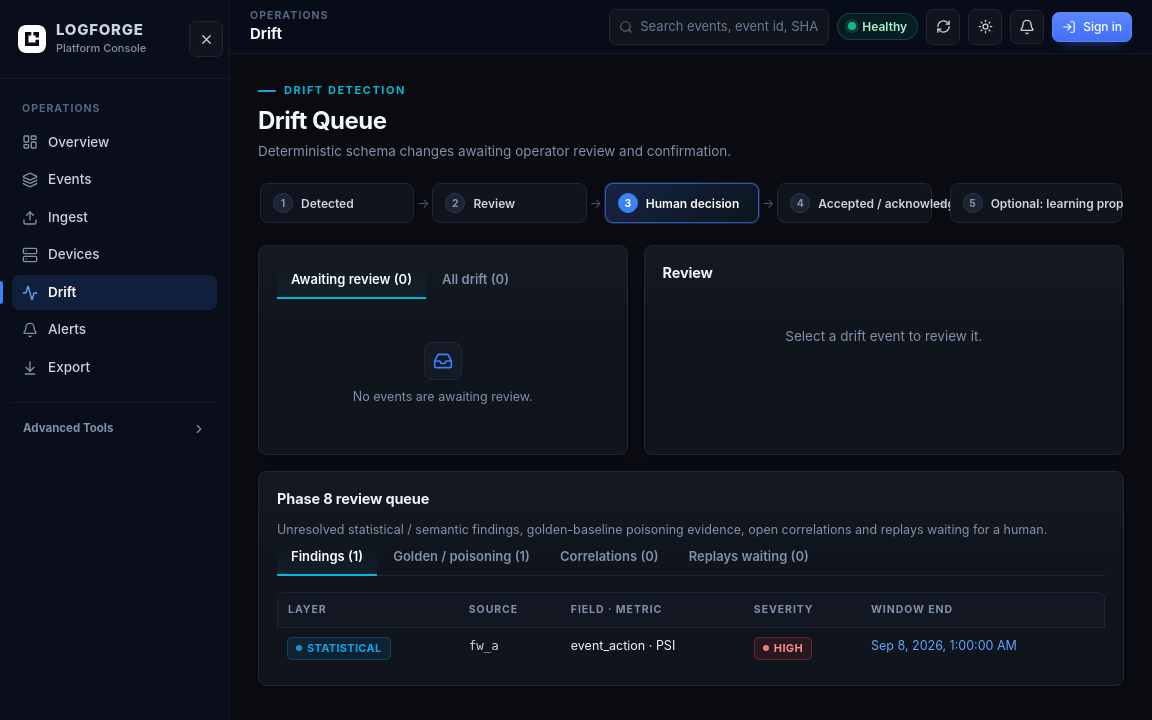
Test case: correlation and review queue › the drift queue lists Phase 8 review items
The image size is (1152, 720).
Expected: the heading "Phase 8 review queue" is shown, [277, 488, 429, 509]
Expected: the tab "Findings (1)" is shown, [277, 540, 377, 576]
Click the tab "Golden / poisoning (1)" at (462, 558), box [379, 540, 544, 576]
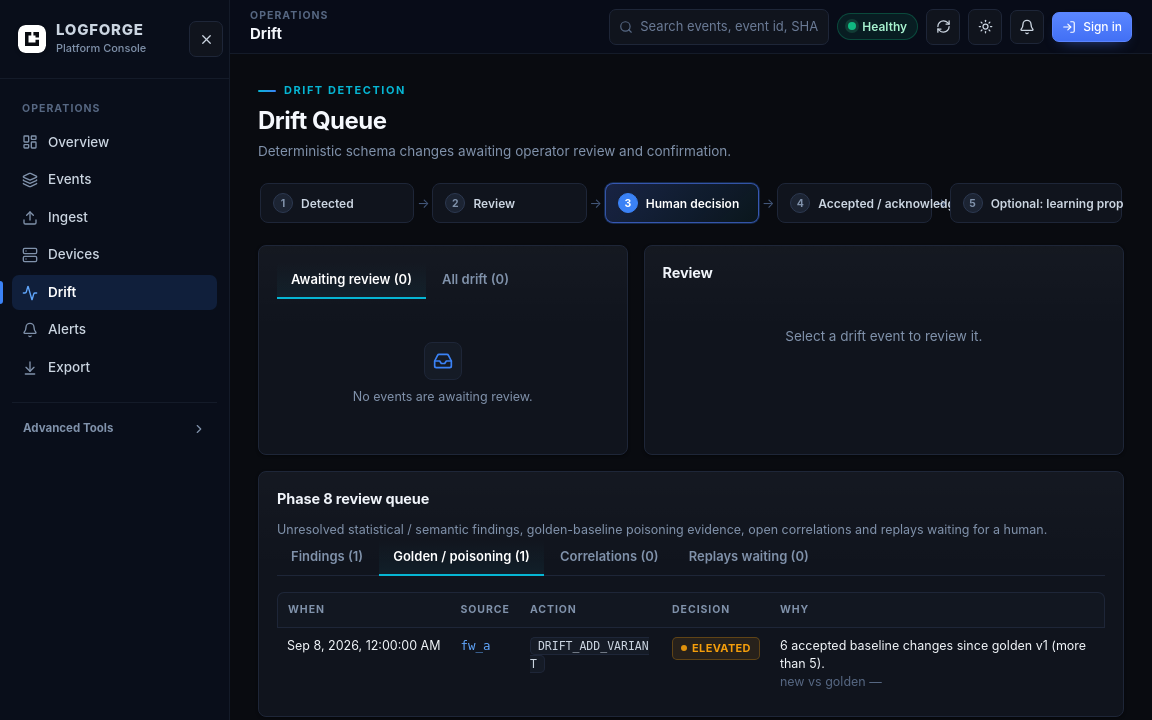
Result: the text "6 accepted baseline changes since golden v1 (more than 5)." is shown at [780, 637, 1095, 673]
